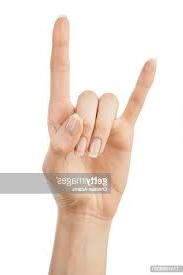Rock: (21, 12, 164, 249)
